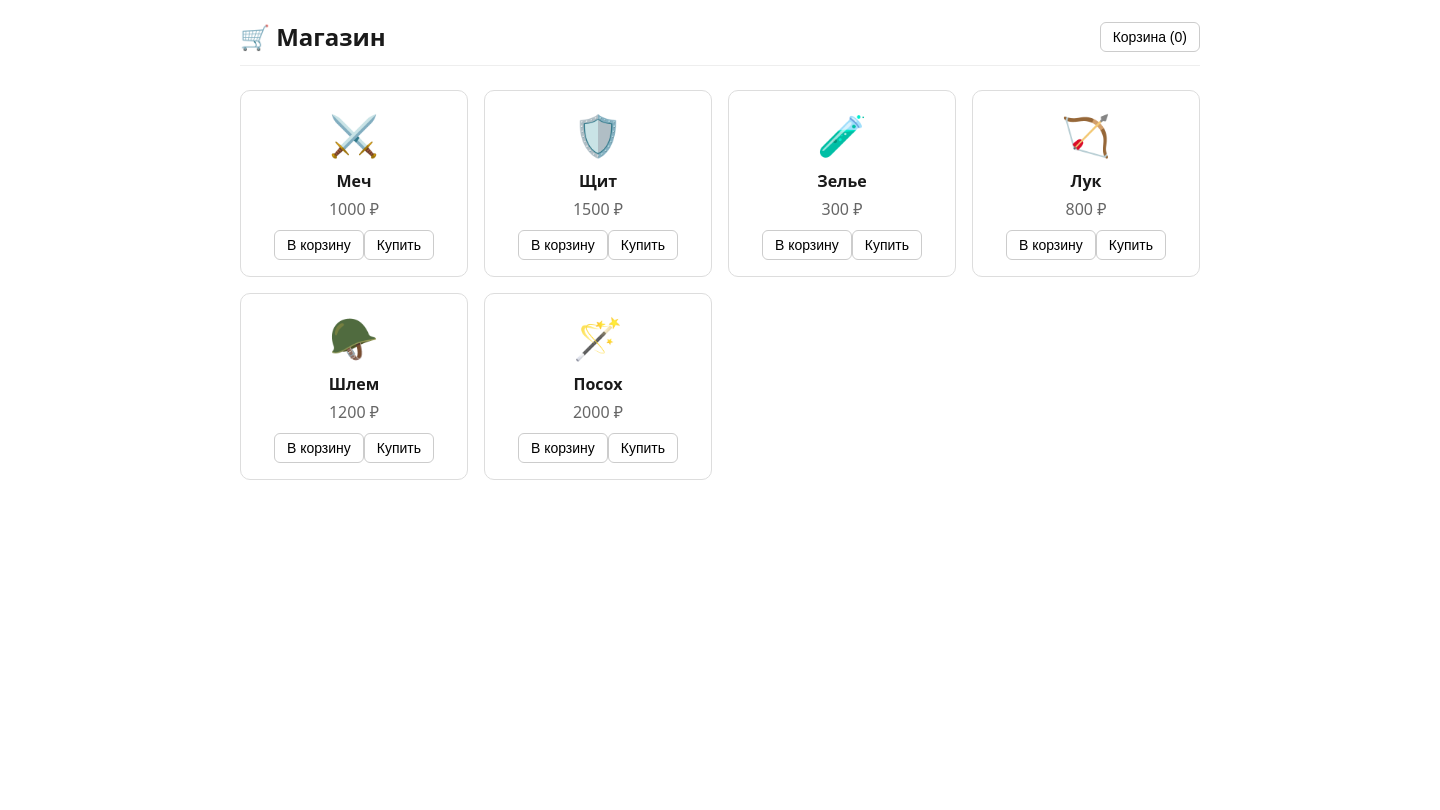
App — витрина и корзина › кнопка «Купить» добавляет товар и открывает оформление
Click the button "Купить" below "1000": (399, 245) [364,230,434,260]
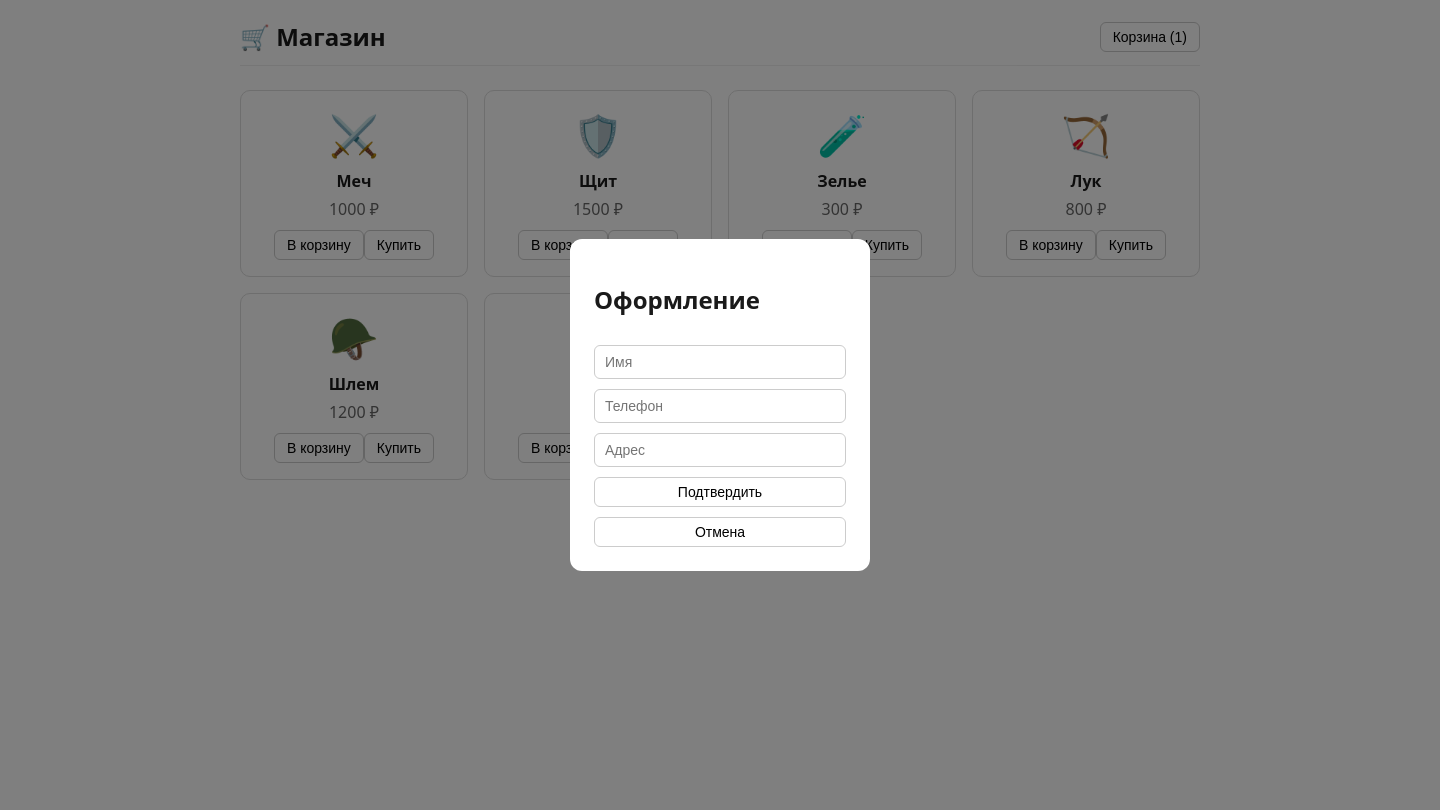
Now the button "Корзина (1)" is shown, box [1100,22,1200,52]
Now the field with placeholder "Имя" is shown, box [594,345,846,379]
